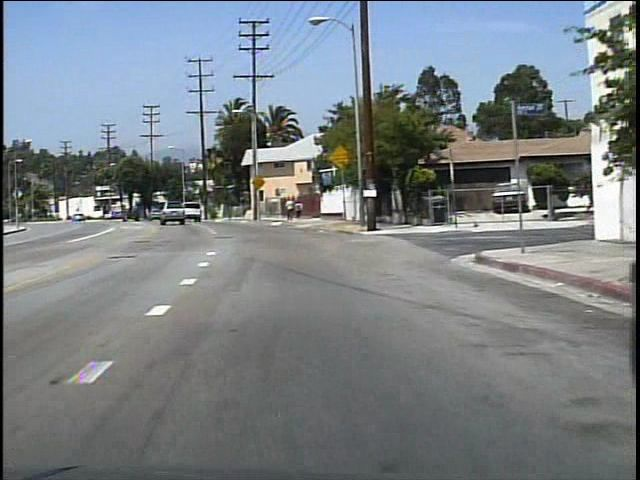person: (285, 196, 296, 223), (294, 199, 304, 221)
